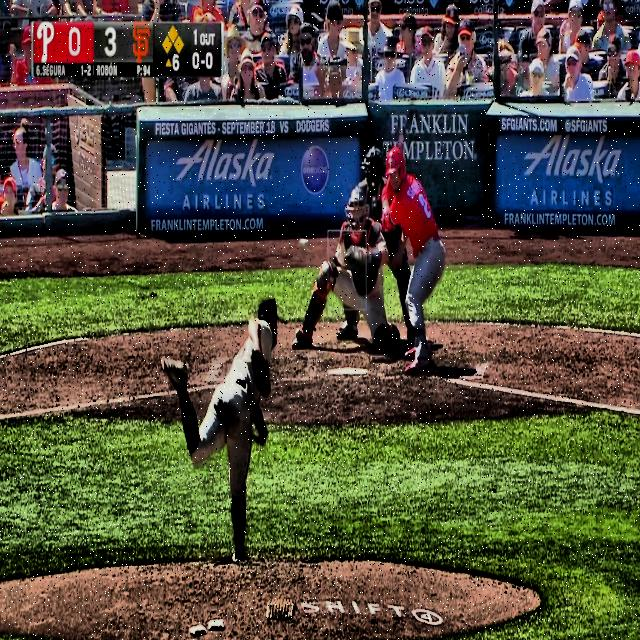baseball: (300, 239, 308, 249)
